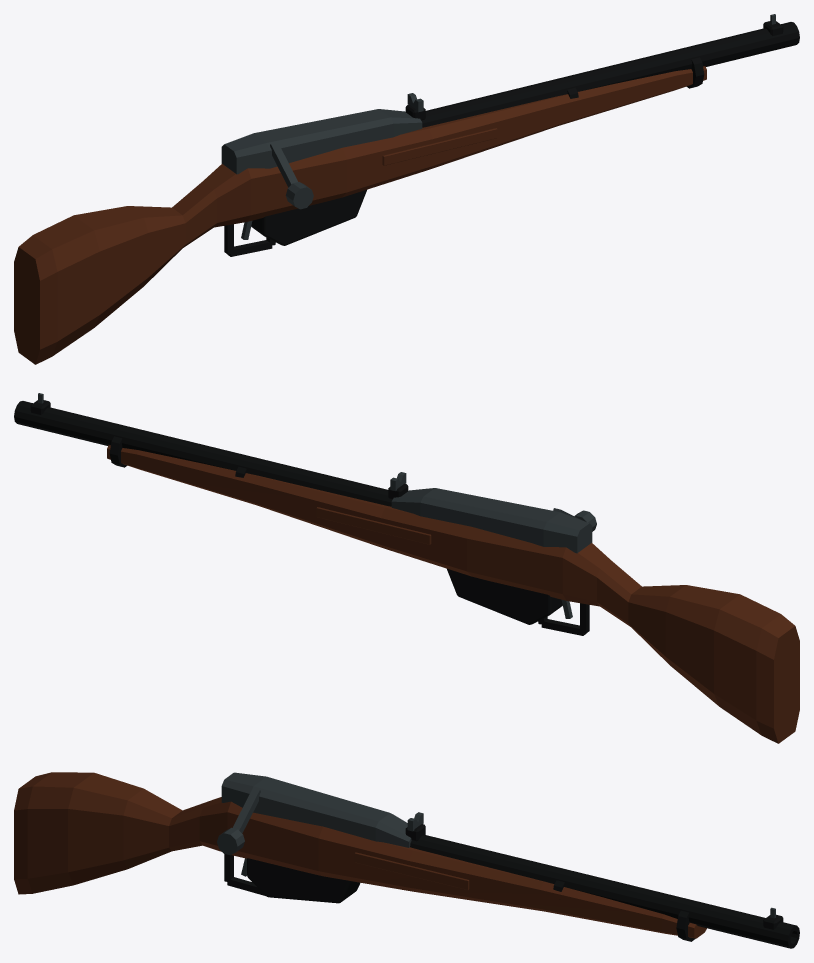
Rendered from CE_Gun_MosinNagant.obj.
The picture shows the model from 3 angles, top to bottom: view 1: azimuth 30°, elevation 25°; view 2: azimuth 150°, elevation 25°; view 3: azimuth 330°, elevation 25°; orthographic projection.
Parts seen in each view (by area): view 1: Mosin_continuous_walnut_full_stock, Mosin_thin_long_open_barrel, Mosin_rounded_steel_bolt_receiver, Mosin_integral_magazine_belly, Mosin_finger_groove.001; view 2: Mosin_continuous_walnut_full_stock, Mosin_thin_long_open_barrel, Mosin_rounded_steel_bolt_receiver, Mosin_integral_magazine_belly, Mosin_finger_groove; view 3: Mosin_continuous_walnut_full_stock, Mosin_thin_long_open_barrel, Mosin_rounded_steel_bolt_receiver, Mosin_integral_magazine_belly, Mosin_finger_groove.001, Mosin_rounded_bolt_knob, Mosin_turned_bolt_handle, Mosin_stock_band.001.
Part boxes in pixels (left/top/right/bottom): Mosin_continuous_walnut_full_stock: left=14, top=66, right=706, bottom=364; Mosin_thin_long_open_barrel: left=421, top=22, right=799, bottom=127; Mosin_rounded_steel_bolt_receiver: left=221, top=109, right=422, bottom=174; Mosin_integral_magazine_belly: left=251, top=189, right=366, bottom=245; Mosin_finger_groove.001: left=382, top=128, right=497, bottom=165; Mosin_continuous_walnut_full_stock: left=107, top=445, right=799, bottom=743; Mosin_thin_long_open_barrel: left=14, top=401, right=392, bottom=506; Mosin_rounded_steel_bolt_receiver: left=391, top=488, right=592, bottom=553; Mosin_integral_magazine_belly: left=447, top=568, right=562, bottom=624; Mosin_finger_groove: left=316, top=507, right=431, bottom=544; Mosin_continuous_walnut_full_stock: left=14, top=772, right=706, bottom=938; Mosin_thin_long_open_barrel: left=410, top=835, right=799, bottom=948; Mosin_rounded_steel_bolt_receiver: left=221, top=772, right=411, bottom=847; Mosin_integral_magazine_belly: left=247, top=858, right=360, bottom=903; Mosin_finger_groove.001: left=354, top=852, right=469, bottom=889; Mosin_rounded_bolt_knob: left=217, top=827, right=244, bottom=855; Mosin_turned_bolt_handle: left=232, top=788, right=260, bottom=833; Mosin_stock_band.001: left=676, top=910, right=695, bottom=941.
Bounding box in the file's own units: 1.48 × 0.307 × 0.1805.
